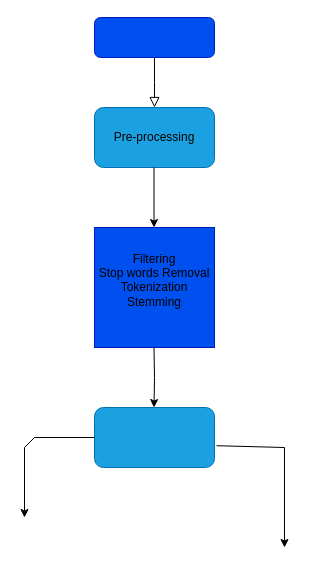
The diagram is 310 pixels wide and 573 high, and some of its shapes have lost their labels. Here are the shapes that lost their labels. From the top down, the centre of each, then its label:
At (x=154, y=37): "Dataset".
At (x=154, y=437): "Data Augmentation".
